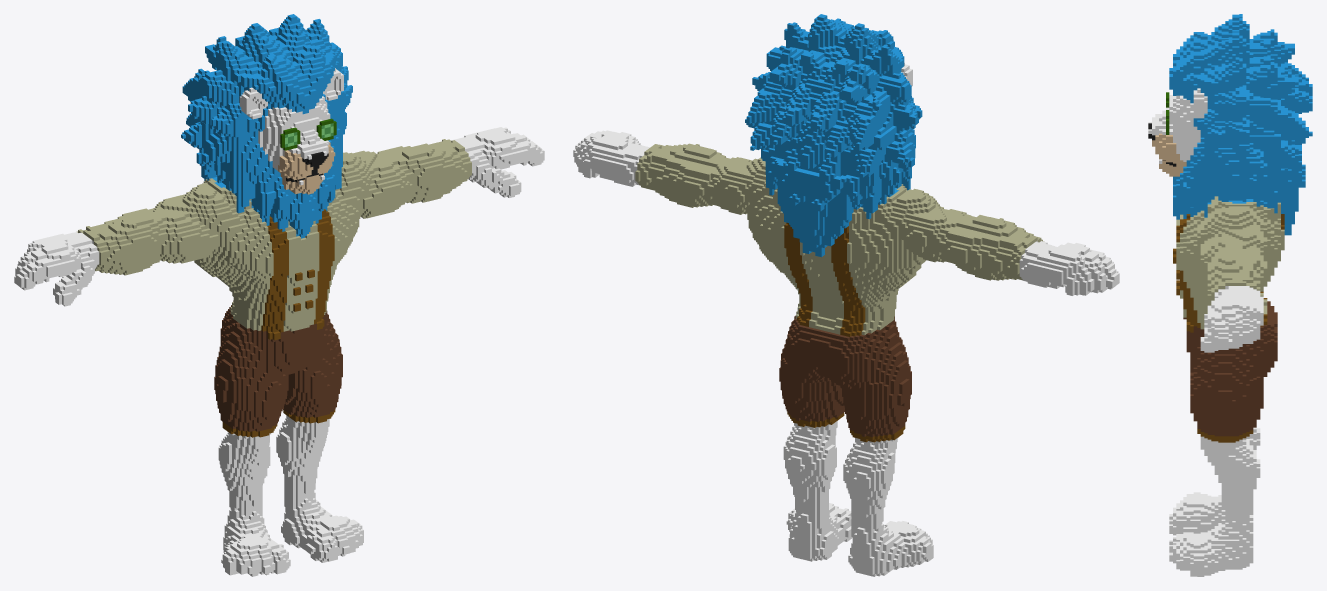
3 renders of one model, left to right at view 1: azimuth 30°, elevation 25°; view 2: azimuth 150°, elevation 25°; view 3: azimuth 270°, elevation 25°, orthographic. The views are drawn at different scales.
Visible parts, largest first — view 1: standard; view 2: standard; view 3: standard.
Boxes of the visible parts, left/top/right/bottom form: standard: left=14, top=14, right=544, bottom=576; standard: left=573, top=14, right=1119, bottom=576; standard: left=1148, top=14, right=1312, bottom=576.
Bounding box in the file's own units: 17.2 × 16.5 × 4.7.
5 materials, 5 textured.
